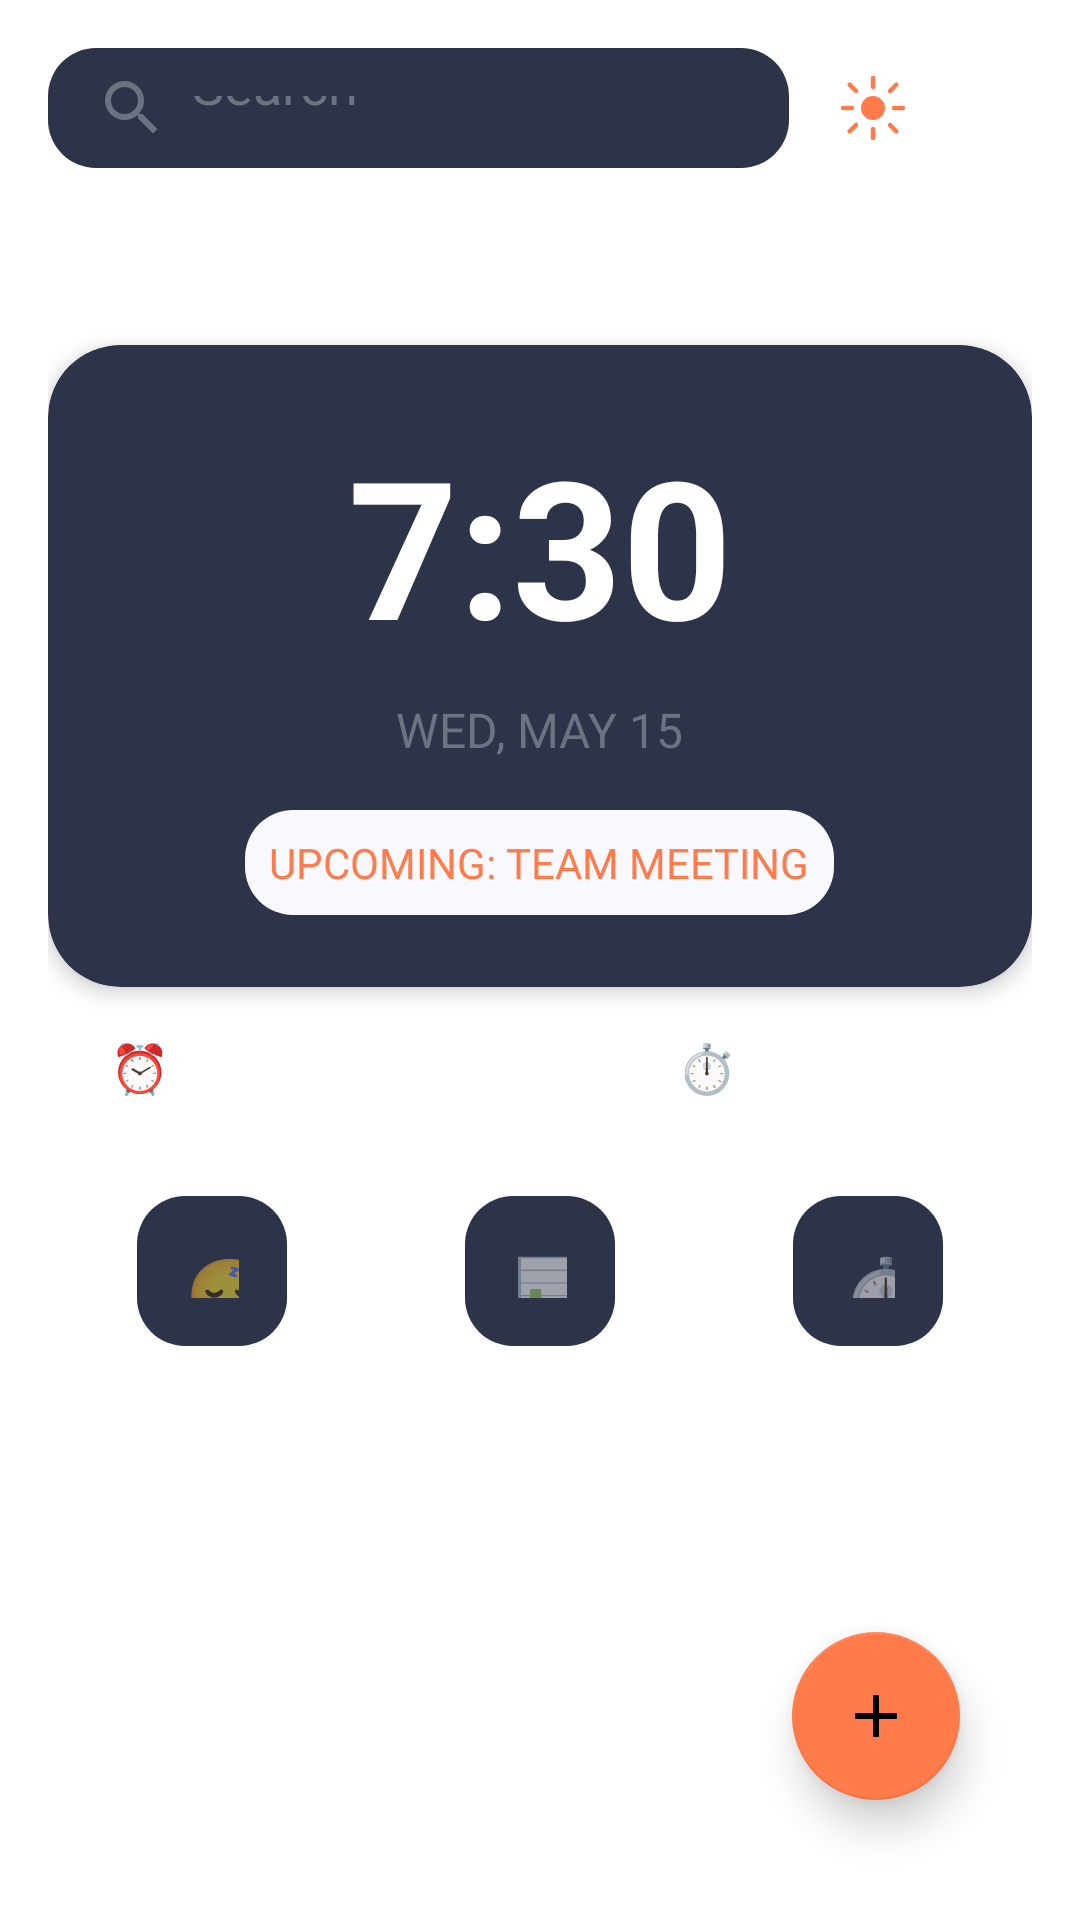

Where icons sit on this 1080*1920 app screen, as (left=x1, top=y1, right=x2, bottom=y2):
New Alarm: (left=792, top=1632, right=960, bottom=1800)
